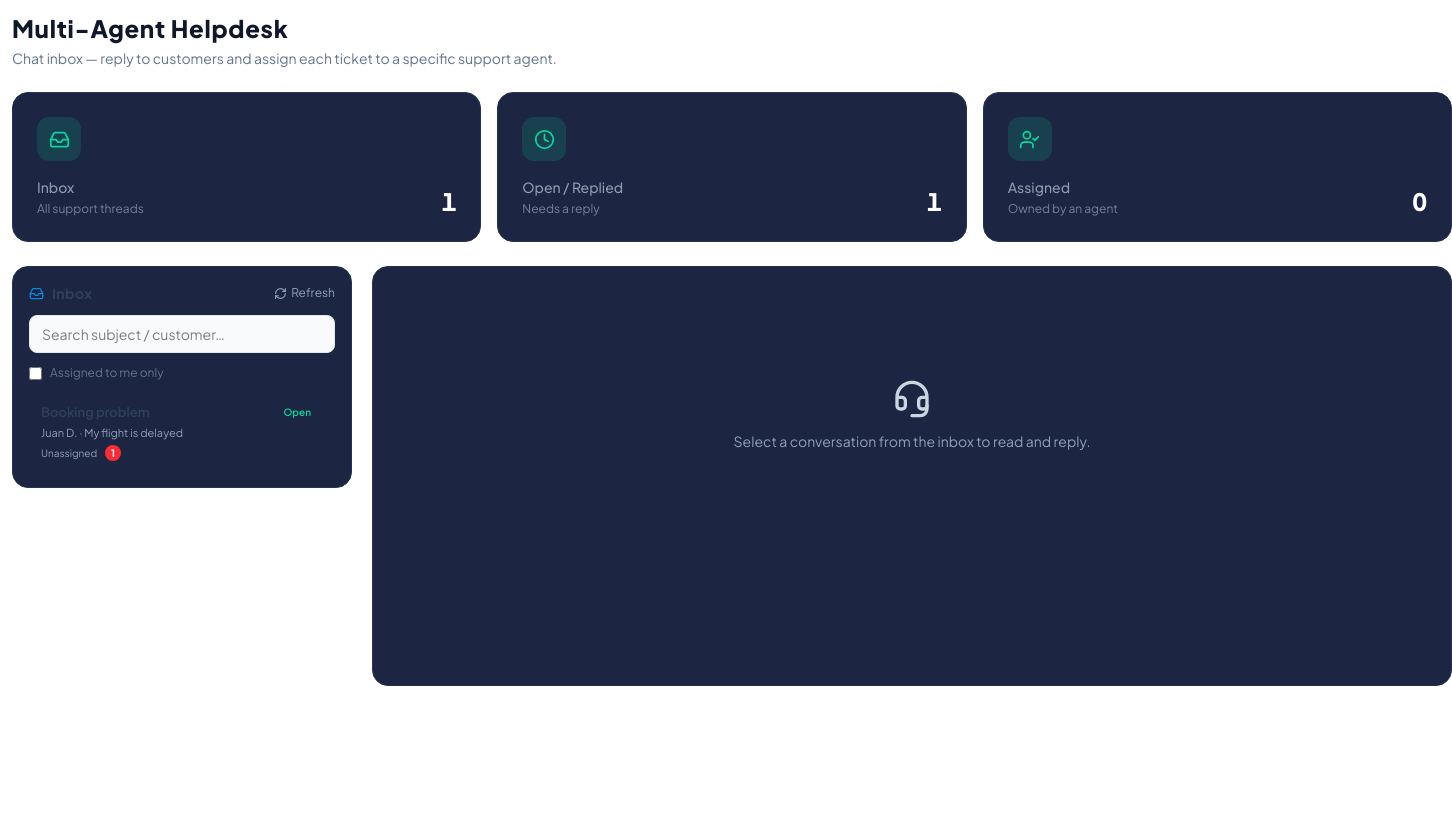
Scenario: HelpdeskInboxPage › shows thread messages for the selected ticket
Click the text "Booking problem" at (95, 413), box [41,403,150,422]
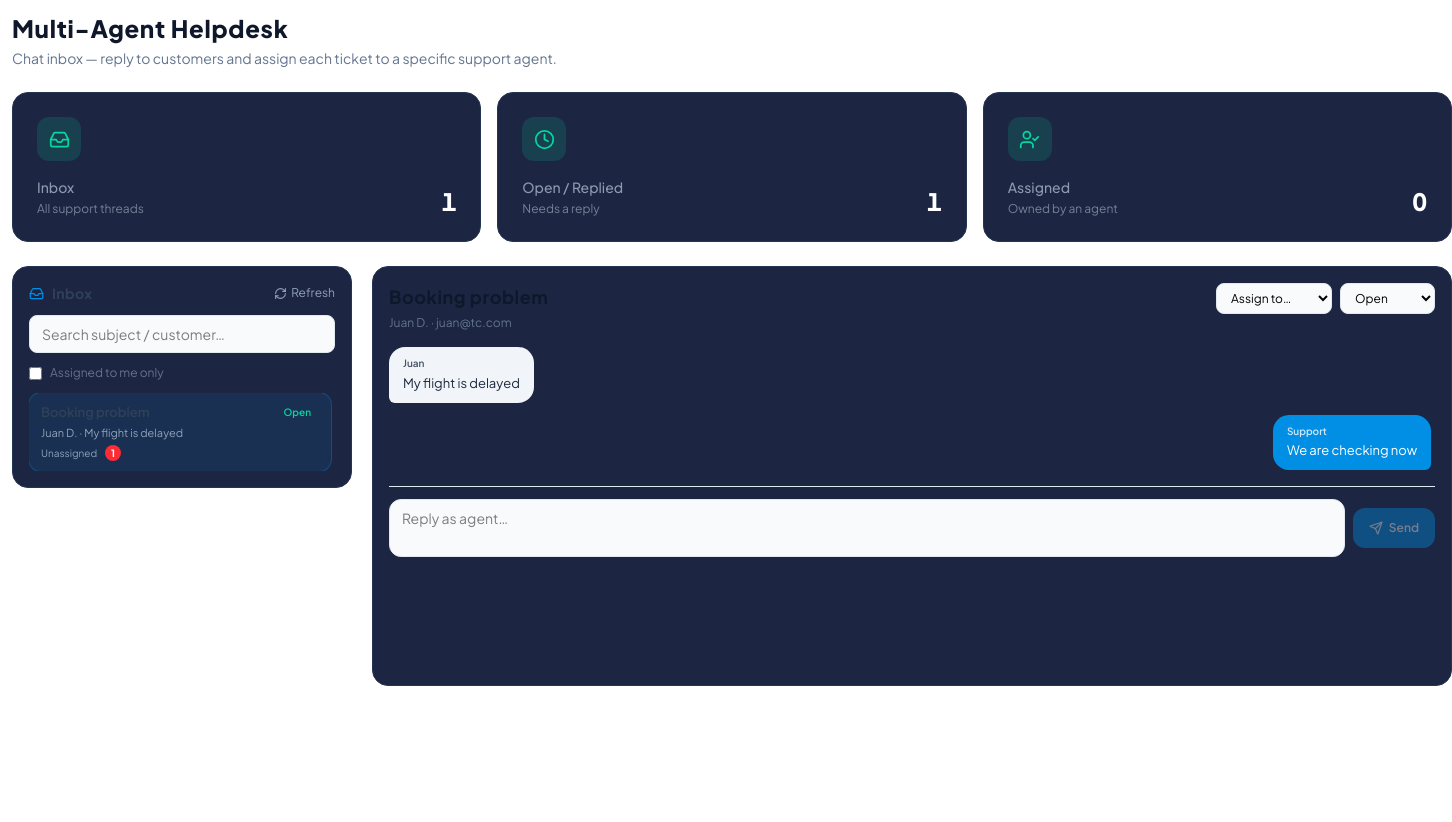
Check: the text "We are checking now" is shown, box [1287,442,1417,458]
